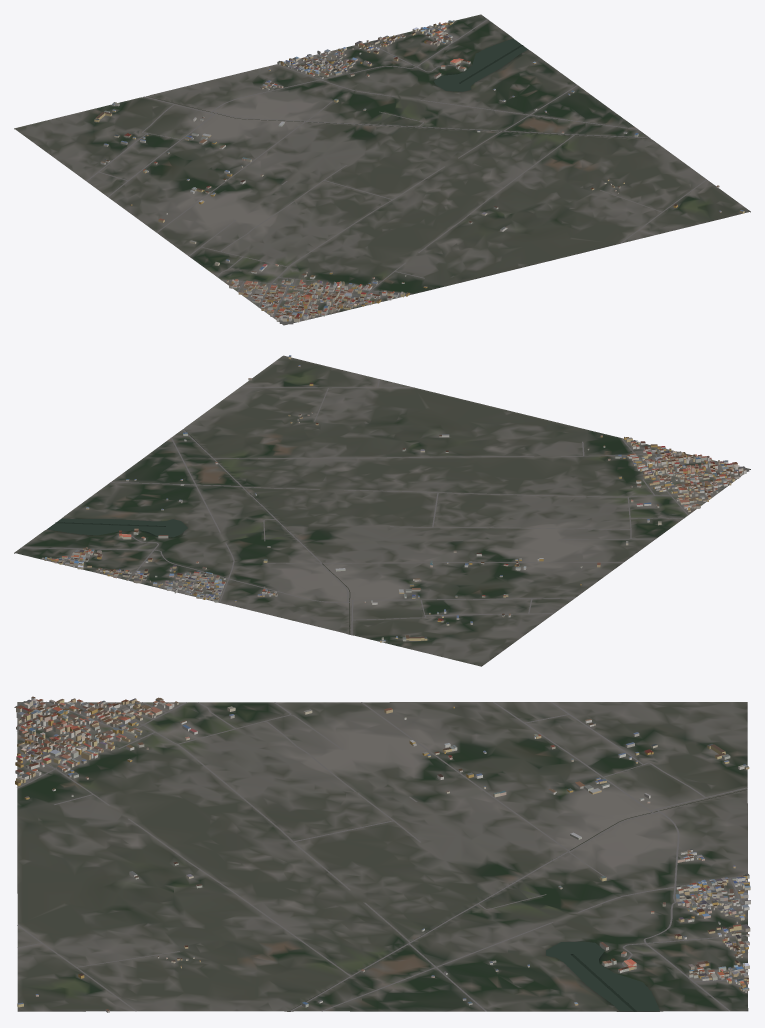
3 renders of one model, top to bottom at view 1: azimuth 30°, elevation 25°; view 2: azimuth 150°, elevation 25°; view 3: azimuth 270°, elevation 25°, orthographic. The views are drawn at different scales.
Parts seen in each view (by area): view 1: ground, buildings, roads, water; view 2: ground, buildings, roads, water; view 3: ground, buildings, roads, water.
Boxes of the visible parts, x1,y1,x2,y2 form: ground: (14,14,750,325); buildings: (94,20,744,322); roads: (86,19,706,324); water: (146,39,650,138); ground: (14,355,750,666); buildings: (42,355,746,642); roads: (21,379,749,634); water: (47,429,350,634); ground: (17,702,748,1011); buildings: (15,696,750,1012); roads: (14,701,747,1011); water: (288,789,747,1011).
Size of the model in its own units: 1415 by 18.29 by 1414.
